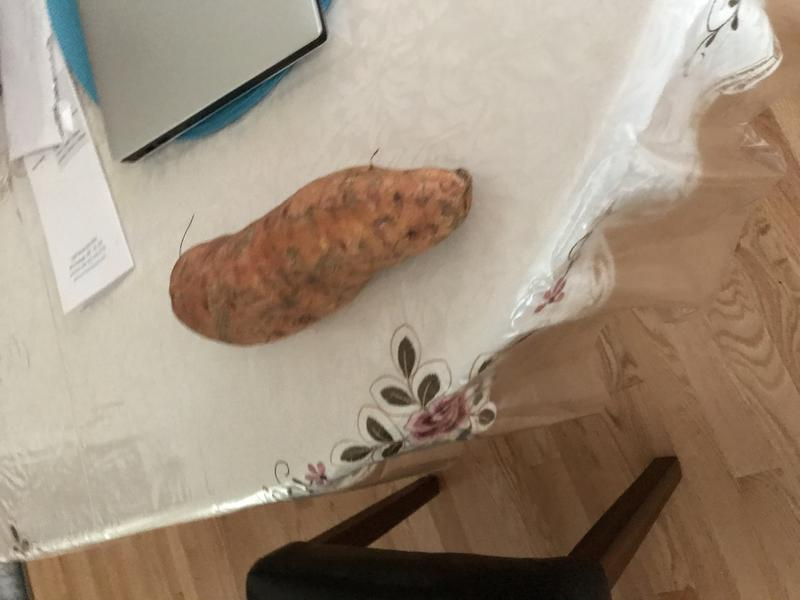sweet_potato: (148, 152, 491, 359)
